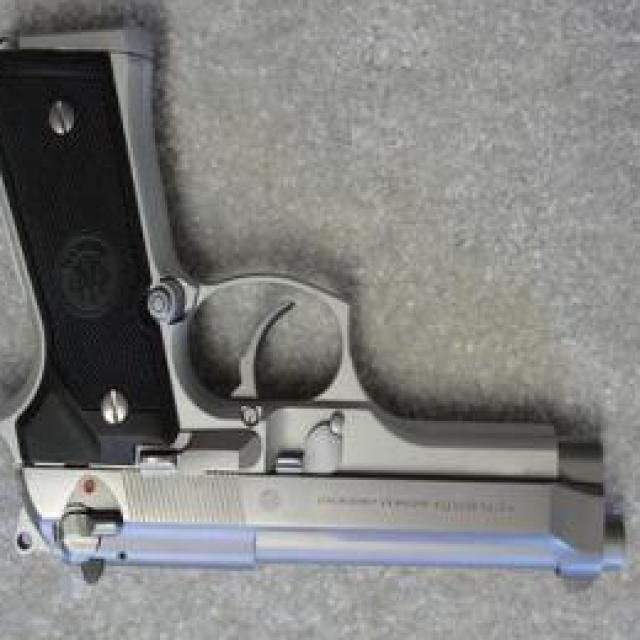pistol: (0, 22, 625, 598)
